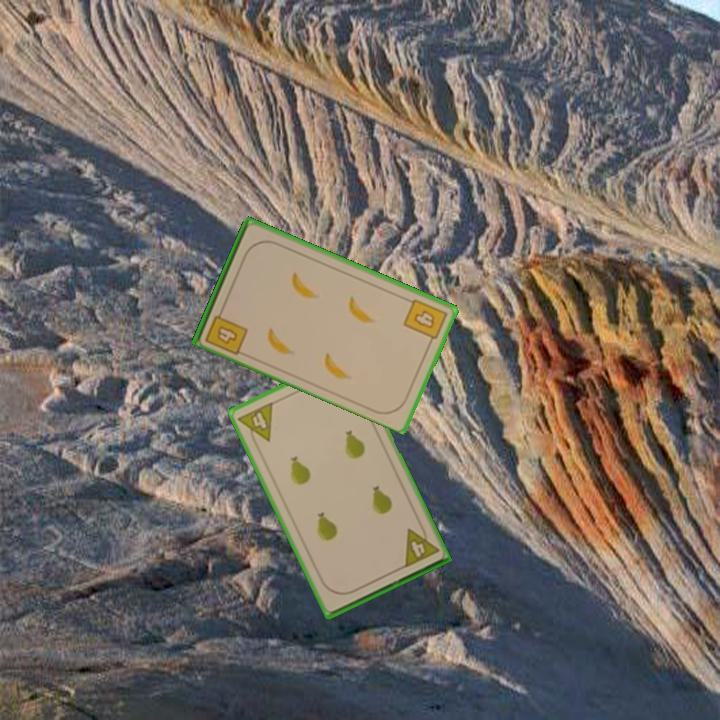4b: (201, 303, 251, 357), (400, 295, 450, 347)
4p: (234, 398, 276, 450), (400, 520, 442, 571)
